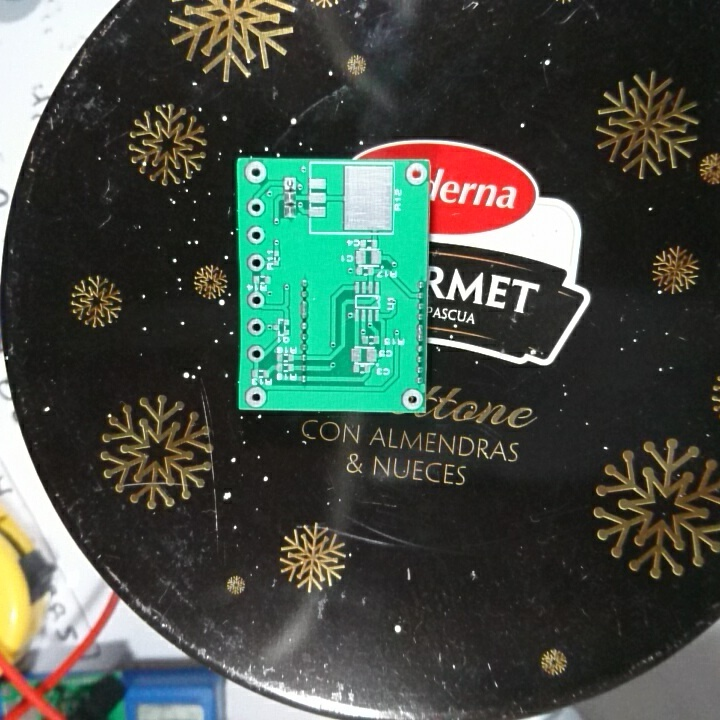F: (402, 160, 429, 189), (243, 383, 270, 412), (243, 158, 268, 185), (401, 386, 426, 412), (244, 252, 267, 274), (245, 196, 267, 218), (245, 224, 267, 246), (246, 289, 267, 311), (246, 342, 267, 364), (247, 318, 266, 338), (281, 175, 299, 191)
P: (298, 298, 314, 321), (414, 323, 428, 343)
